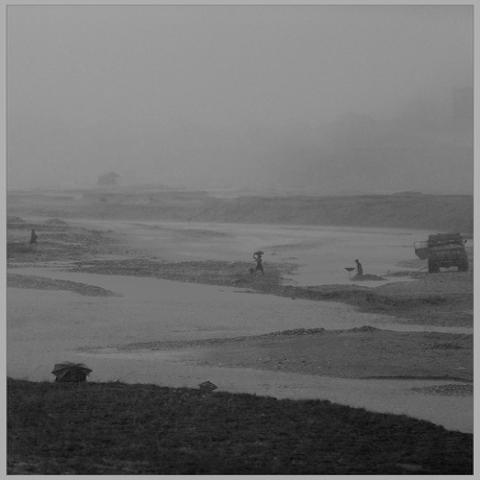car: (413, 235, 468, 274)
truck: (412, 233, 469, 273)
